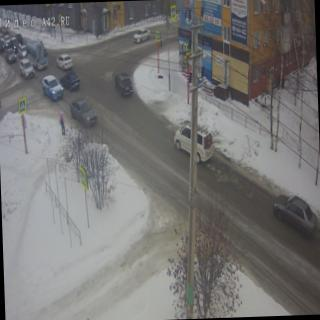large-vehicle: (172, 123, 214, 166), (26, 40, 50, 70)
small-vehicle: (272, 194, 318, 243), (68, 97, 99, 128), (42, 76, 64, 102), (115, 72, 134, 100), (59, 70, 82, 93), (18, 58, 36, 80), (132, 26, 152, 44), (55, 54, 73, 72), (5, 48, 17, 63), (9, 36, 21, 51), (18, 44, 28, 60), (2, 35, 12, 48), (15, 34, 24, 44), (0, 26, 10, 34), (0, 38, 5, 52)
